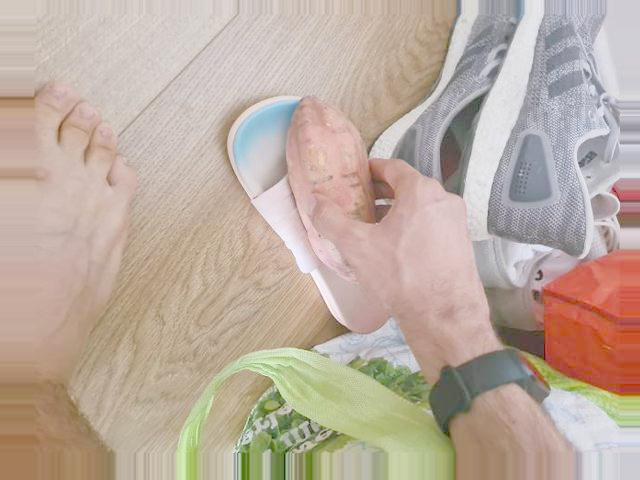sweet_potato: (282, 92, 377, 282)
